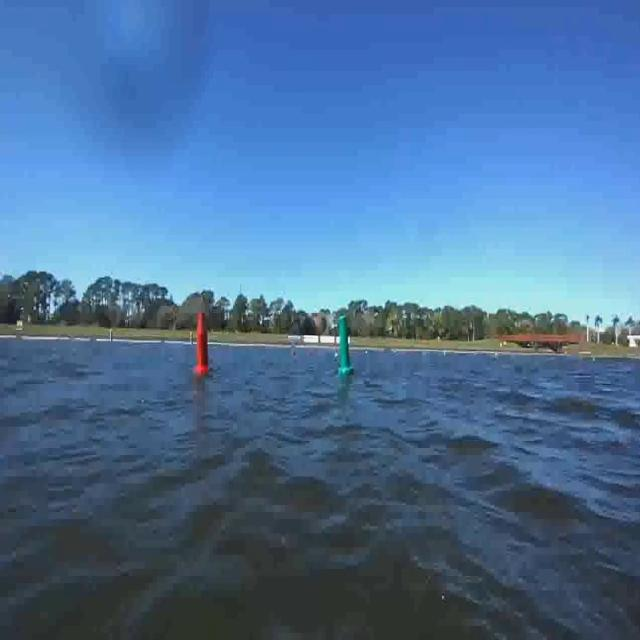green-column-buoy: (337, 315, 356, 376)
red-column-buoy: (195, 312, 211, 375)
